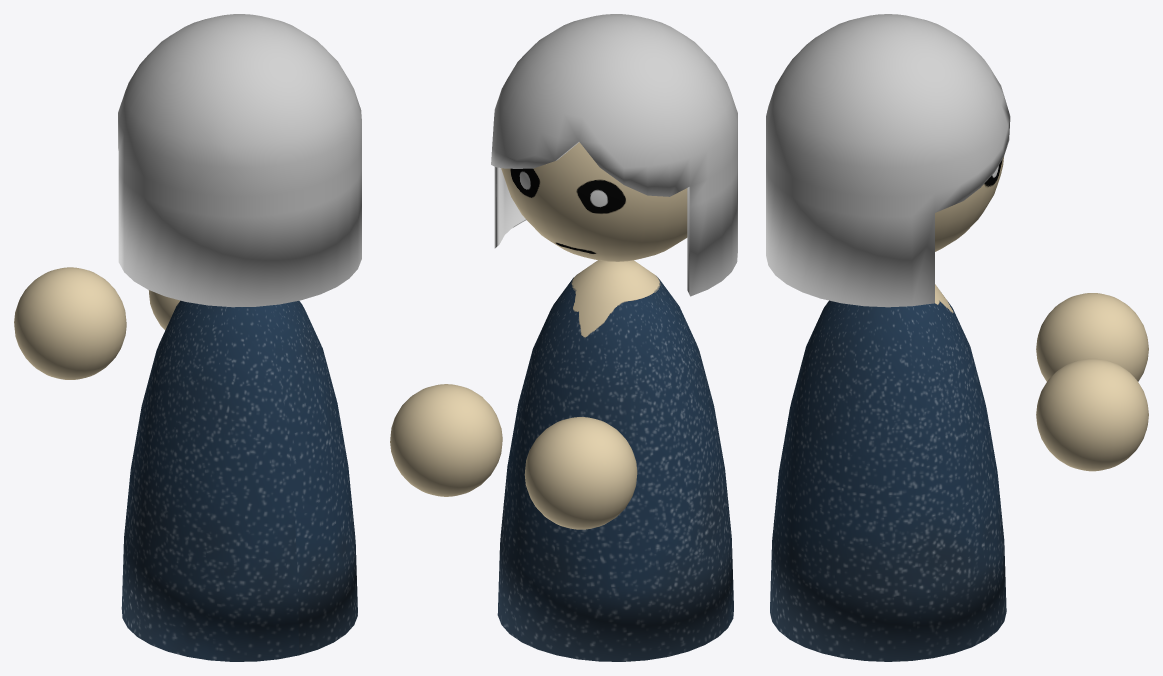
The model's file is Chara6.fbx.
3 renders of one model, left to right at view 1: azimuth 30°, elevation 25°; view 2: azimuth 150°, elevation 25°; view 3: azimuth 270°, elevation 25°, orthographic.
Visible parts, largest first — view 1: Sphere.002, Sphere.003, Sphere; view 2: Sphere.002, Sphere.003, Sphere, Sphere.001; view 3: Sphere.002, Sphere.003, Sphere, Sphere.001.
Part boxes in pixels (left/top/right/bottom): Sphere.002: left=121, top=300, right=357, bottom=661; Sphere.003: left=118, top=14, right=361, bottom=307; Sphere: left=14, top=267, right=180, bottom=379; Sphere.002: left=497, top=260, right=733, bottom=661; Sphere.003: left=491, top=14, right=737, bottom=296; Sphere: left=390, top=384, right=637, bottom=529; Sphere.001: left=501, top=142, right=687, bottom=261; Sphere.002: left=770, top=284, right=1006, bottom=661; Sphere.003: left=766, top=14, right=1010, bottom=307; Sphere: left=1036, top=293, right=1148, bottom=471; Sphere.001: left=935, top=157, right=1003, bottom=251.
Bounding box in the file's own units: 155 × 399 × 221.
